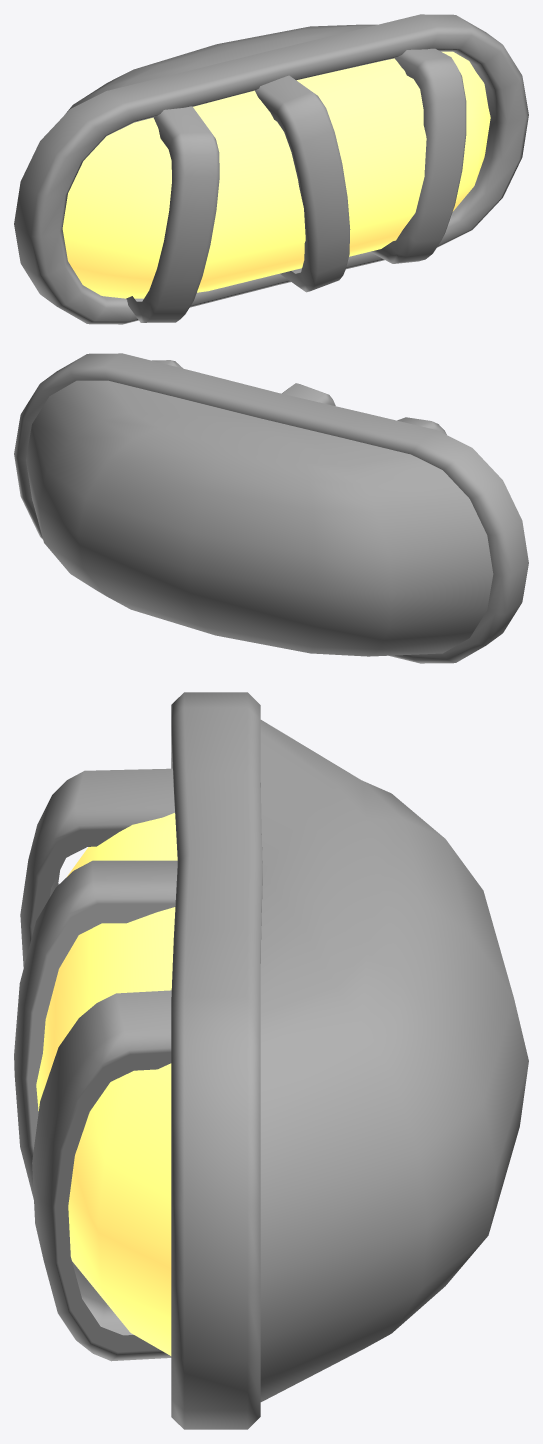
File: SM_Street_Light_01.fbx
3 renders of one model, top to bottom at view 1: azimuth 30°, elevation 25°; view 2: azimuth 150°, elevation 25°; view 3: azimuth 270°, elevation 25°, orthographic. The views are drawn at different scales.
Visible parts, largest first — view 1: v3_part2; view 2: v3_part2; view 3: v3_part2.
Part boxes in pixels (left/top/right/bottom): v3_part2: left=14, top=14, right=528, bottom=324; v3_part2: left=14, top=353, right=528, bottom=663; v3_part2: left=14, top=692, right=528, bottom=1429.
Size of the model in its own units: 260 by 110 by 123.
